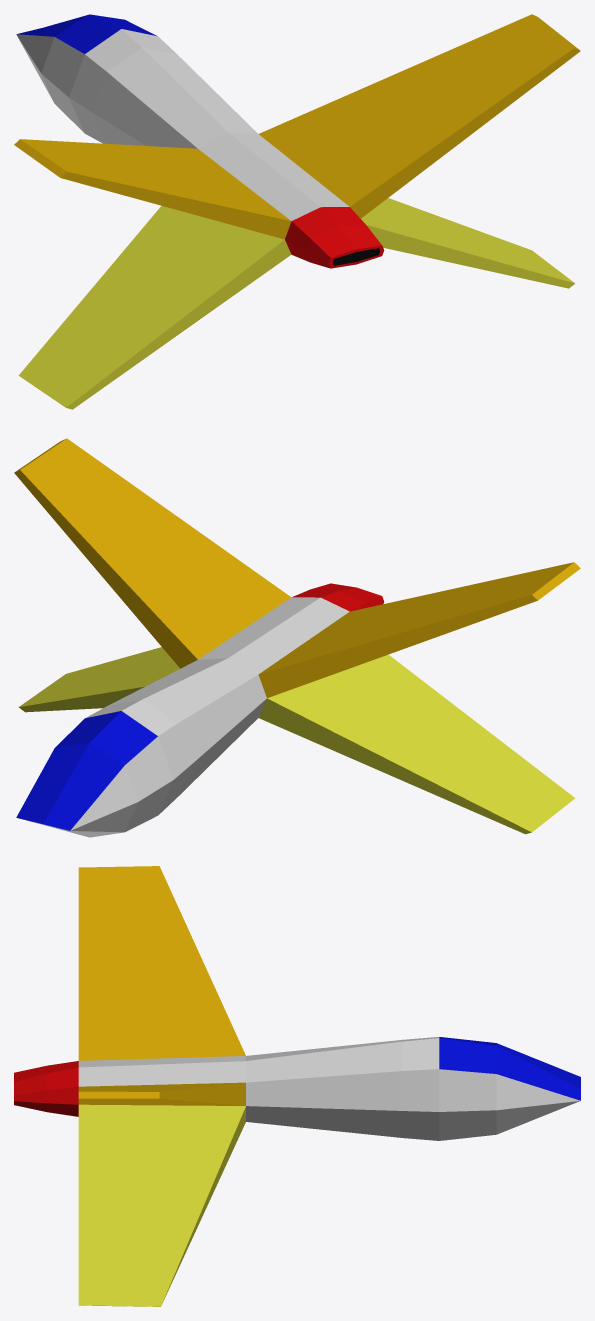
File: ss-zeta.fbx
3 views of the same model, one above another, from view 1: azimuth 30°, elevation 25°; view 2: azimuth 150°, elevation 25°; view 3: azimuth 270°, elevation 25° (orthographic). The views are drawn at different scales.
Parts seen in each view (by area): view 1: ss-zeta; view 2: ss-zeta; view 3: ss-zeta.
Boxes of the visible parts, box(x1,y1,x2,y2) form: ss-zeta: box(14, 14, 580, 409); ss-zeta: box(14, 438, 580, 837); ss-zeta: box(14, 866, 580, 1306).
Size of the model in its own units: 1266 by 555 by 1311.
